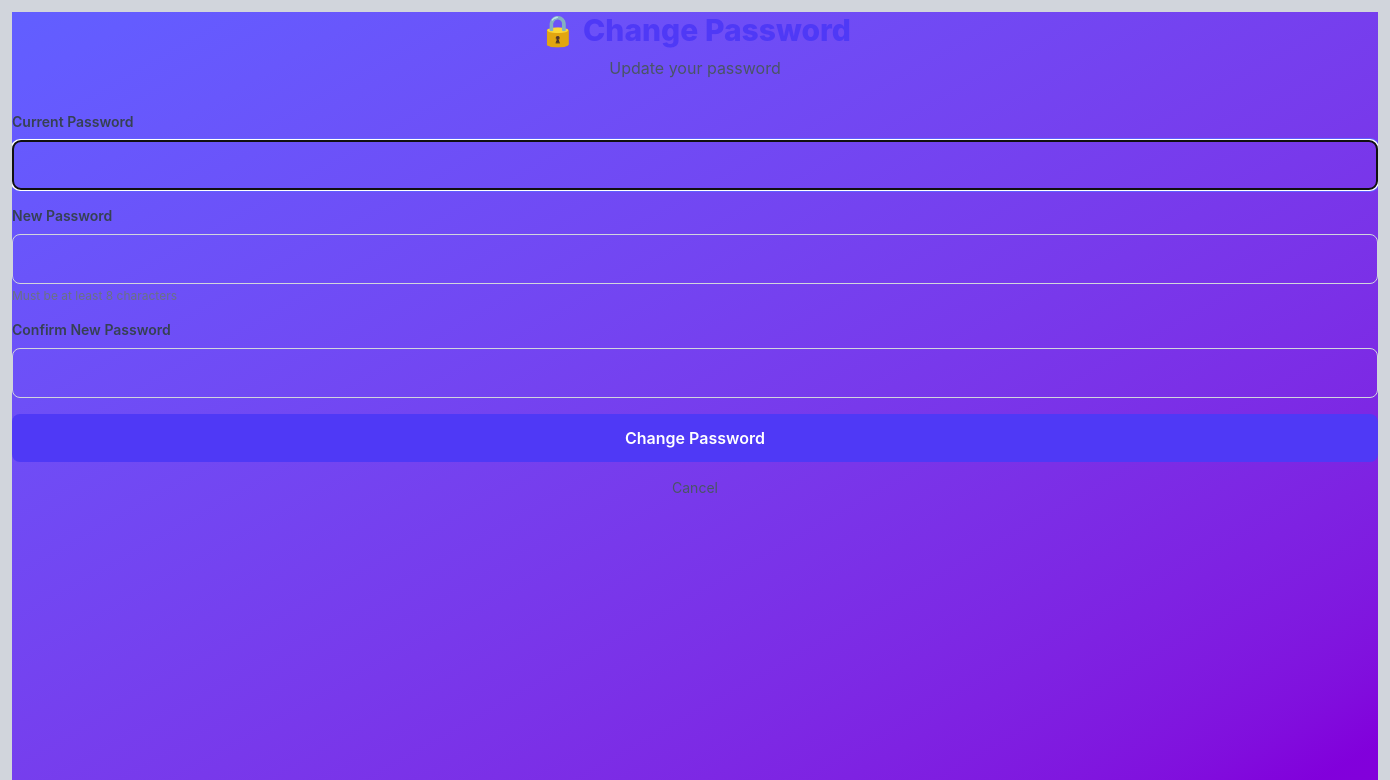
ChangePasswordPage › displays error on password change failure
The image size is (1390, 780).
Type "wrongpass" into the password field labelled "Current Password". click: [695, 165]
box: [12,140,1378,190]
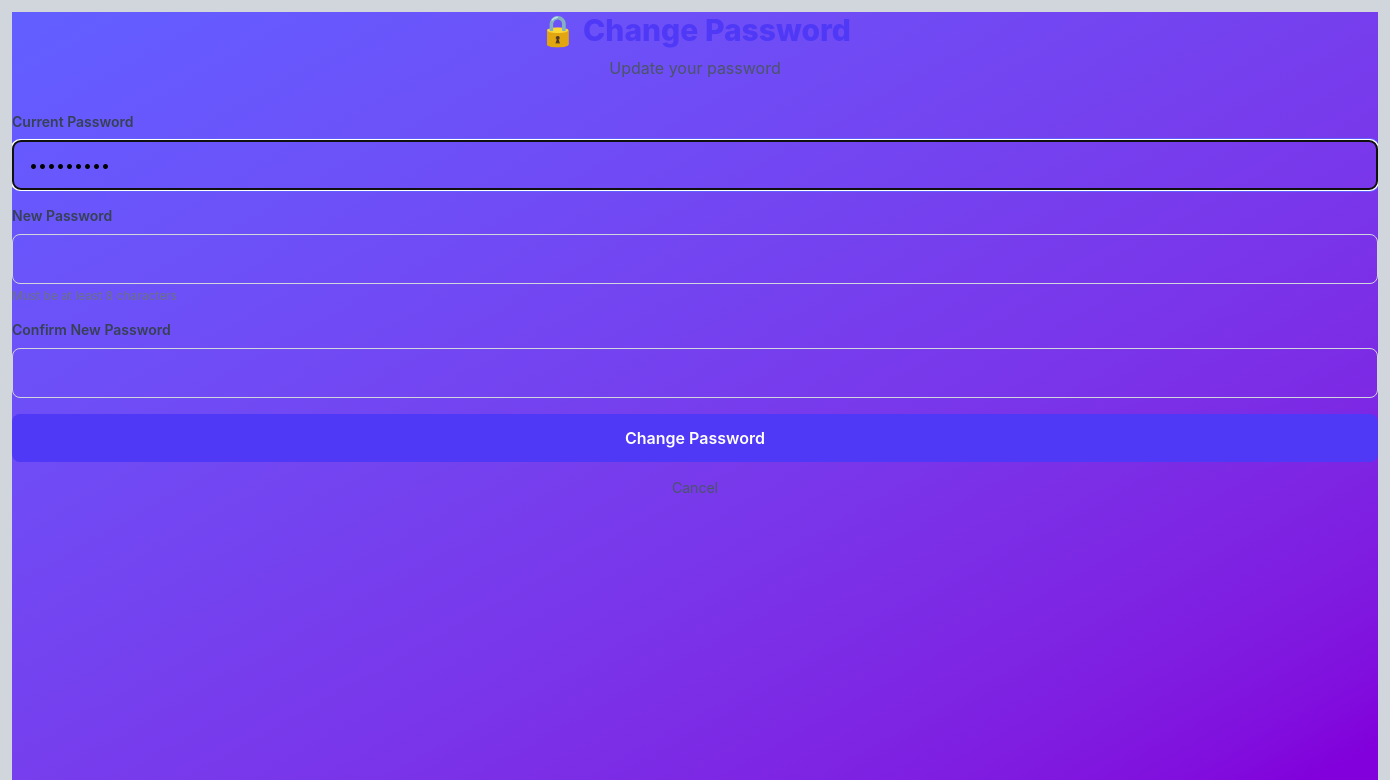
Type "newpass123" into the password field labelled "New Password". click: [695, 259]
box: [12,234,1378,284]
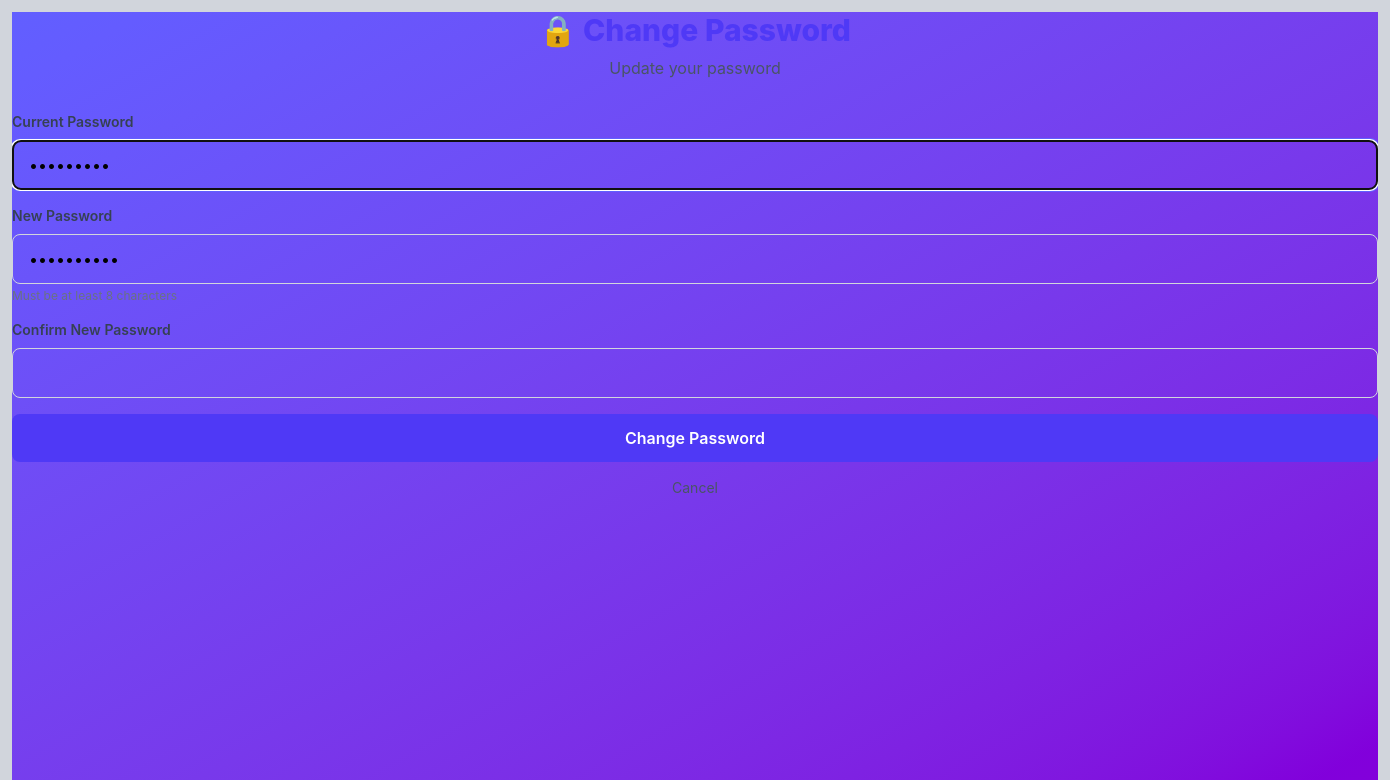
Type "newpass123" into the password field labelled "Confirm New Password". click: [695, 373]
box: [12,348,1378,398]
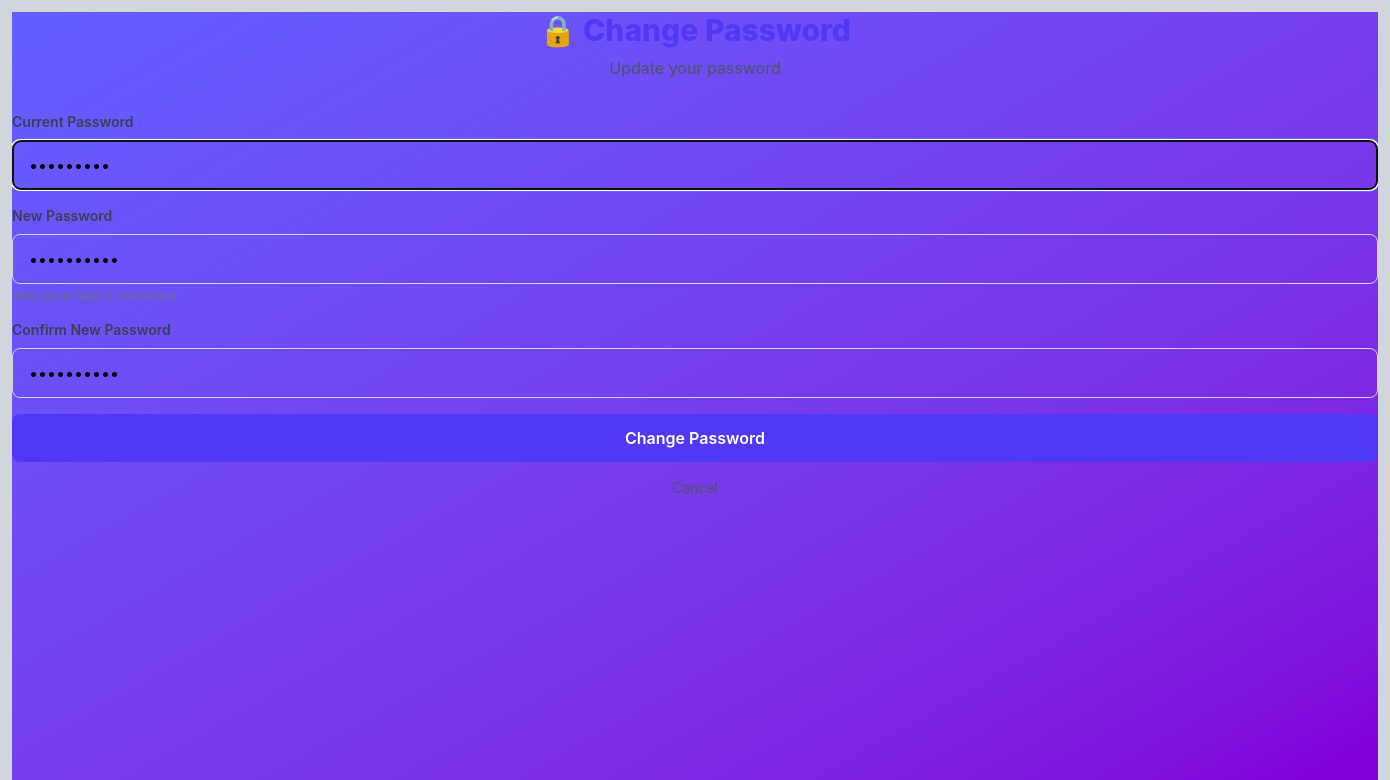
Click the button "Change Password". click: [695, 438]
box: [12,414,1378,462]
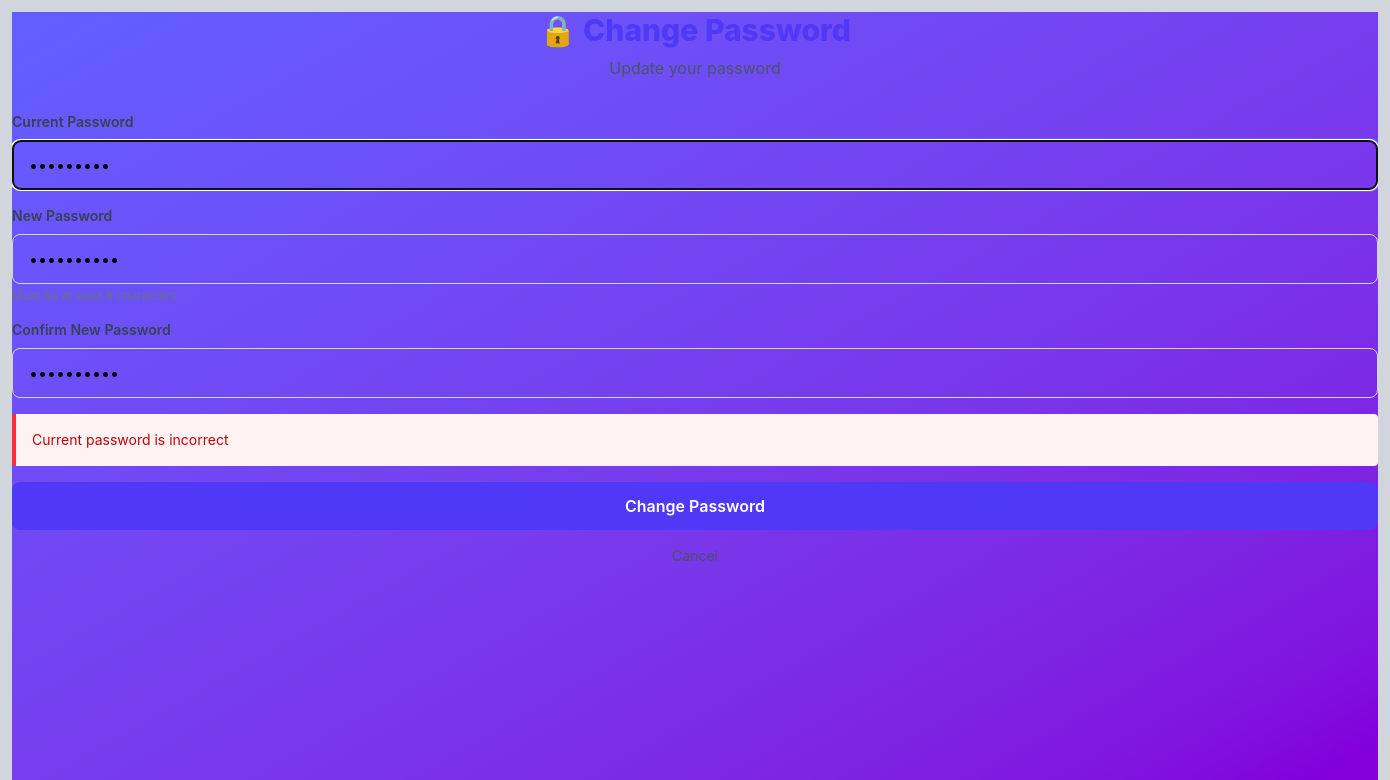
Expected: the text "Current password is incorrect" is shown, [32,431,228,448]
